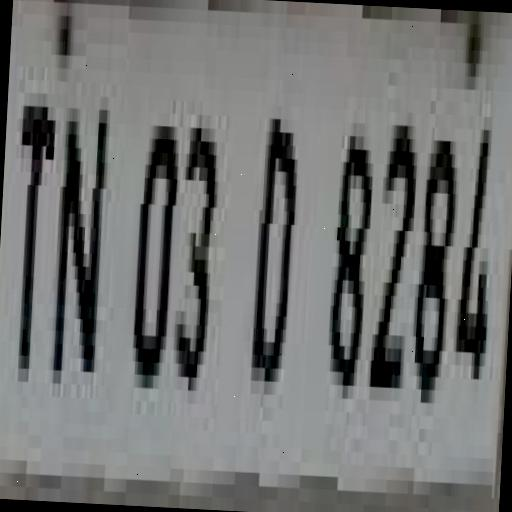number plate: (0, 0, 501, 512)
